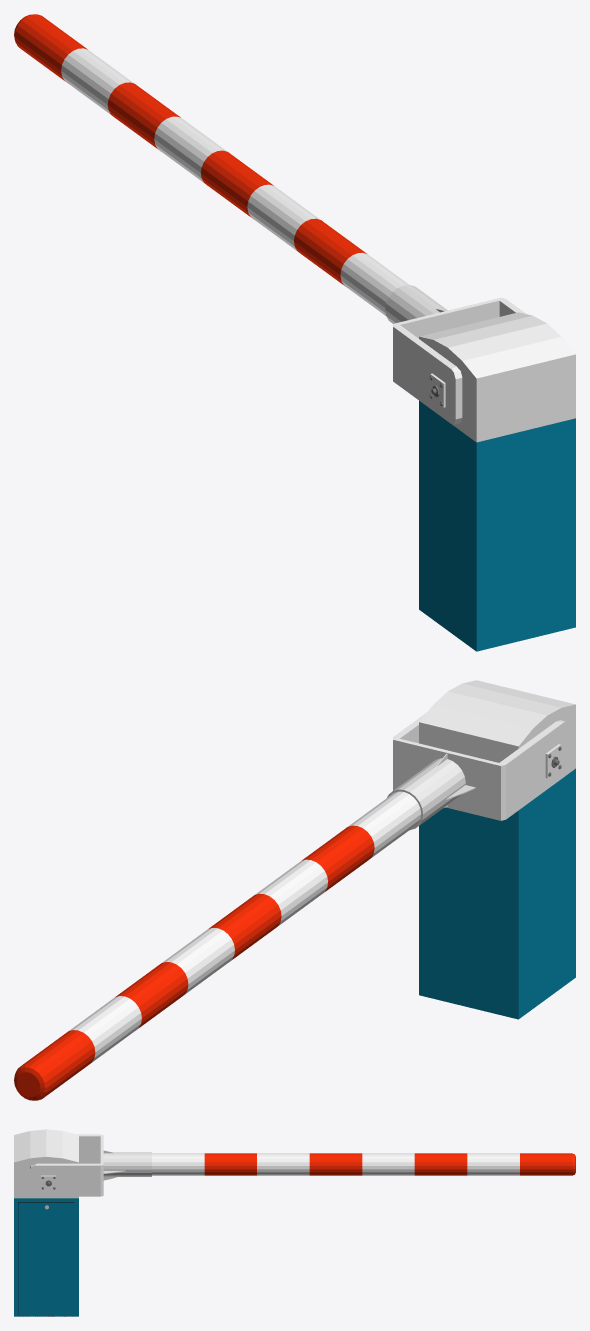
File: barrièrelevante.obj
The picture shows the model from 3 angles, top to bottom: view 1: azimuth 30°, elevation 25°; view 2: azimuth 150°, elevation 25°; view 3: azimuth 270°, elevation 25°; orthographic projection. The views are drawn at different scales.
Parts seen in each view (by area): view 1: Cylinder_Cylinder.011; view 2: Cylinder_Cylinder.011; view 3: Cylinder_Cylinder.011.
Part boxes in pixels (x1=…): Cylinder_Cylinder.011: x1=14, y1=14, x2=575, y2=651; Cylinder_Cylinder.011: x1=14, y1=680, x2=575, y2=1100; Cylinder_Cylinder.011: x1=14, y1=1129, x2=575, y2=1316.
Bounding box in the file's own units: 0.5816 × 1.25 × 3.98.
Materials: 1 (1 with a texture image).
